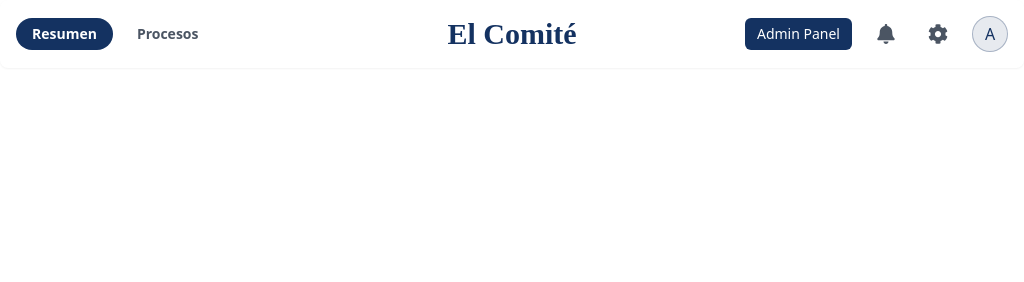
Test: Header › should open notifications dropdown and fetch notifications when bell is clicked
Note: Bell is typically before cog and user avatar
Click the 4th button: x=886, y=34 [868,16,904,52]
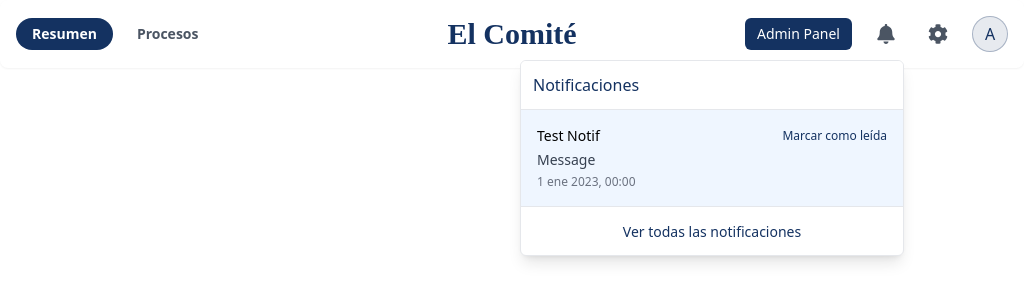
Expected: the heading "Notificaciones" is shown, [533,73,639,97]
Expected: the text "Test Notif" is shown, [537,126,600,146]
